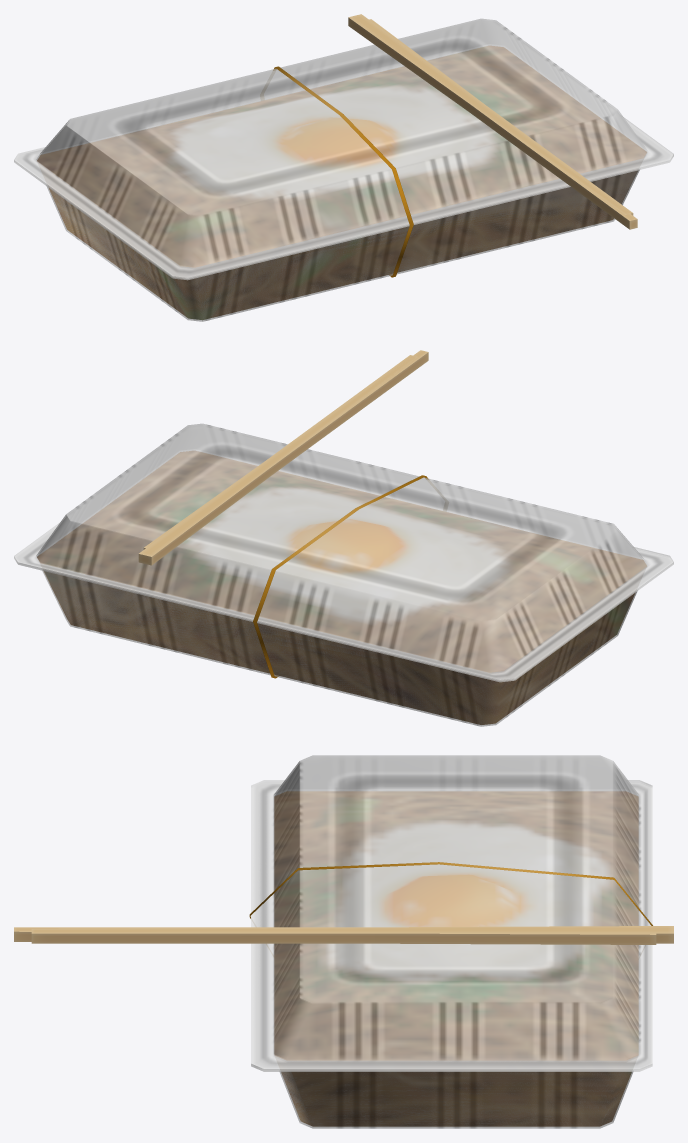
The model's file is jsf_Pack_FriedNoodles_03.fbx.
The picture shows the model from 3 angles, top to bottom: view 1: azimuth 30°, elevation 25°; view 2: azimuth 150°, elevation 25°; view 3: azimuth 270°, elevation 25°; orthographic projection. The views are drawn at different scales.
Parts seen in each view (by area): view 1: Lid, FriedNoodles_03, Pack, DisposableChopsticks_01, DisposableChopsticks_02, RubberBand; view 2: FriedNoodles_03, Lid, Pack, DisposableChopsticks_01, DisposableChopsticks_02, RubberBand; view 3: Lid, FriedNoodles_03, Pack, DisposableChopsticks_01, DisposableChopsticks_02, RubberBand.
Part boxes in pixels (bbox=[...]): Lid: bbox=[14, 18, 673, 278]; FriedNoodles_03: bbox=[37, 46, 646, 320]; Pack: bbox=[14, 120, 673, 321]; DisposableChopsticks_01: bbox=[348, 14, 633, 215]; DisposableChopsticks_02: bbox=[360, 19, 637, 229]; RubberBand: bbox=[273, 66, 413, 277]; FriedNoodles_03: bbox=[37, 451, 646, 724]; Lid: bbox=[14, 423, 673, 680]; Pack: bbox=[14, 525, 673, 726]; DisposableChopsticks_01: bbox=[138, 355, 417, 565]; DisposableChopsticks_02: bbox=[143, 350, 428, 549]; RubberBand: bbox=[253, 475, 428, 678]; Lid: bbox=[251, 755, 652, 1070]; FriedNoodles_03: bbox=[274, 791, 638, 1126]; Pack: bbox=[251, 781, 652, 1128]; DisposableChopsticks_01: bbox=[31, 926, 673, 943]; DisposableChopsticks_02: bbox=[14, 927, 656, 944]; RubberBand: bbox=[249, 862, 652, 925].
Size of the model in its own units: 21.3 by 4.75 by 20.55.
